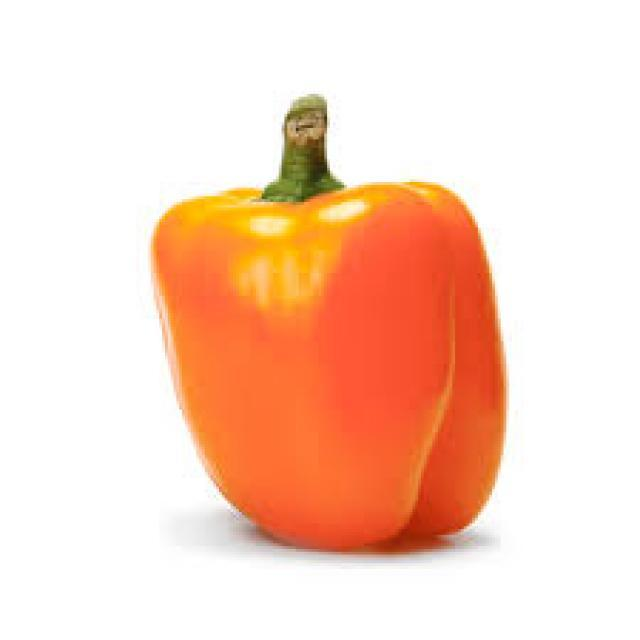Pepper: (149, 181, 512, 554)
